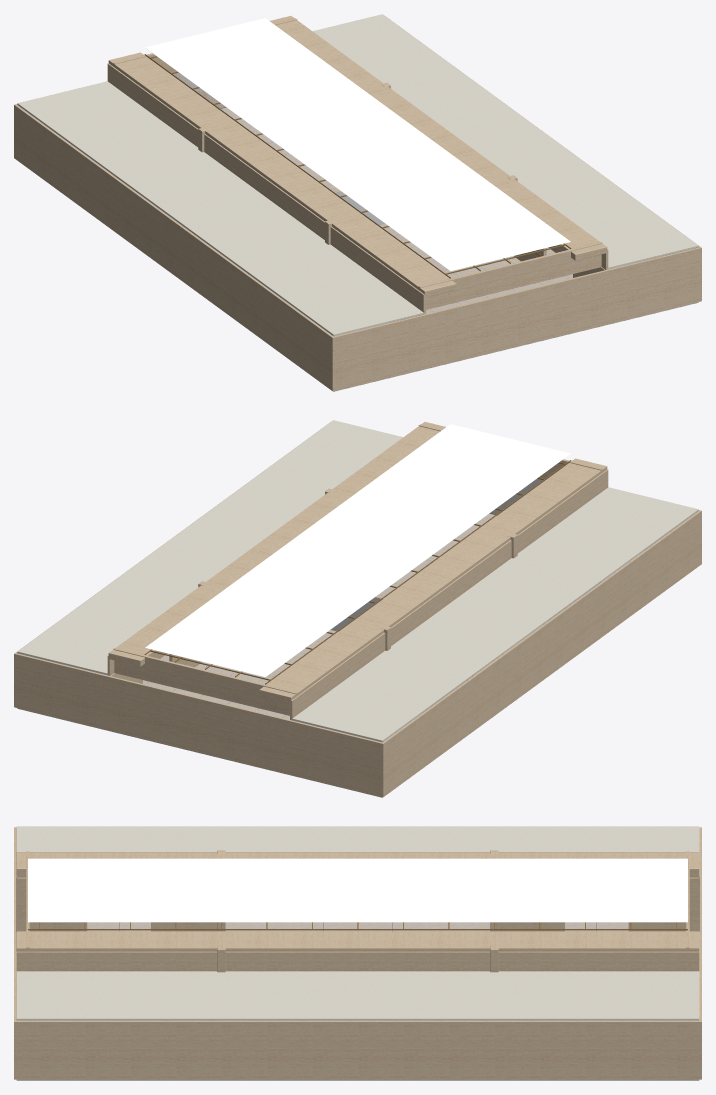
Rendered from pavilion-mobile.glb.
3 renders of one model, top to bottom at view 1: azimuth 30°, elevation 25°; view 2: azimuth 150°, elevation 25°; view 3: azimuth 270°, elevation 25°, orthographic. The views are drawn at different scales.
Parts seen in each view (by area): view 1: OVERHEAD_Ceiling finish, OVERHEAD_Rooflight diffuse sky, OVERHEAD_Cut limestone, SHELL_south, SHELL_west, SHELL_Floor, OVERHEAD_Patinated bronze; view 2: OVERHEAD_Ceiling finish, OVERHEAD_Rooflight diffuse sky, OVERHEAD_Cut limestone, SHELL_north, SHELL_west, SHELL_Floor, OVERHEAD_Patinated bronze; view 3: OVERHEAD_Ceiling finish, OVERHEAD_Rooflight diffuse sky, SHELL_east, OVERHEAD_Cut limestone, SHELL_Floor, ARCHITECTURE_Cut limestone, OVERHEAD_Patinated bronze, SHELL_north, SHELL_south.
Part boxes in pixels (x1,y1,x2,y2): OVERHEAD_Ceiling finish: (17, 14, 698, 336); OVERHEAD_Rooflight diffuse sky: (145, 18, 570, 271); OVERHEAD_Cut limestone: (107, 16, 608, 314); SHELL_south: (331, 247, 701, 391); SHELL_west: (15, 105, 333, 389); SHELL_Floor: (80, 107, 698, 391); OVERHEAD_Patinated bronze: (144, 54, 571, 278); OVERHEAD_Ceiling finish: (17, 420, 698, 742); OVERHEAD_Rooflight diffuse sky: (145, 424, 570, 677); OVERHEAD_Cut limestone: (107, 422, 608, 720); SHELL_north: (14, 653, 384, 797); SHELL_west: (382, 511, 700, 795); SHELL_Floor: (17, 513, 635, 797); OVERHEAD_Patinated bronze: (144, 460, 571, 684); OVERHEAD_Ceiling finish: (16, 826, 699, 1020); OVERHEAD_Rooflight diffuse sky: (28, 858, 687, 922); SHELL_east: (16, 1020, 699, 1079); OVERHEAD_Cut limestone: (16, 850, 699, 972); SHELL_Floor: (16, 922, 699, 1080); ARCHITECTURE_Cut limestone: (17, 877, 698, 931); OVERHEAD_Patinated bronze: (28, 922, 687, 930); SHELL_north: (699, 827, 701, 1079); SHELL_south: (14, 827, 16, 1079).
Size of what is drawn, in the model's own units: 40.48 by 9.11 by 60.48.
Materials: 13 (8 with a texture image).
